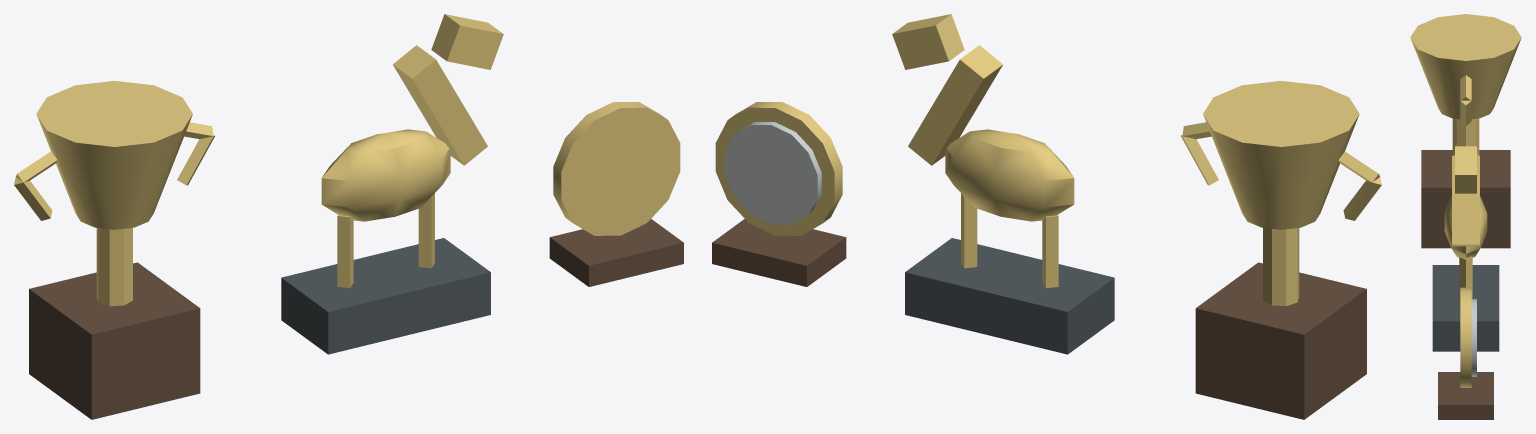
Rendered from trophies.fbx.
3 renders of one model, left to right at view 1: azimuth 30°, elevation 25°; view 2: azimuth 150°, elevation 25°; view 3: azimuth 270°, elevation 25°, orthographic. The views are drawn at different scales.
Parts seen in each view (by area): view 1: trophies; view 2: trophies; view 3: trophies.
Boxes of the visible parts, box(x1,y1,x2,y2) form: trophies: box(14, 14, 683, 419); trophies: box(712, 14, 1381, 419); trophies: box(1410, 14, 1521, 419).
Size of the model in its own units: 48.8 by 19.83 by 10.
